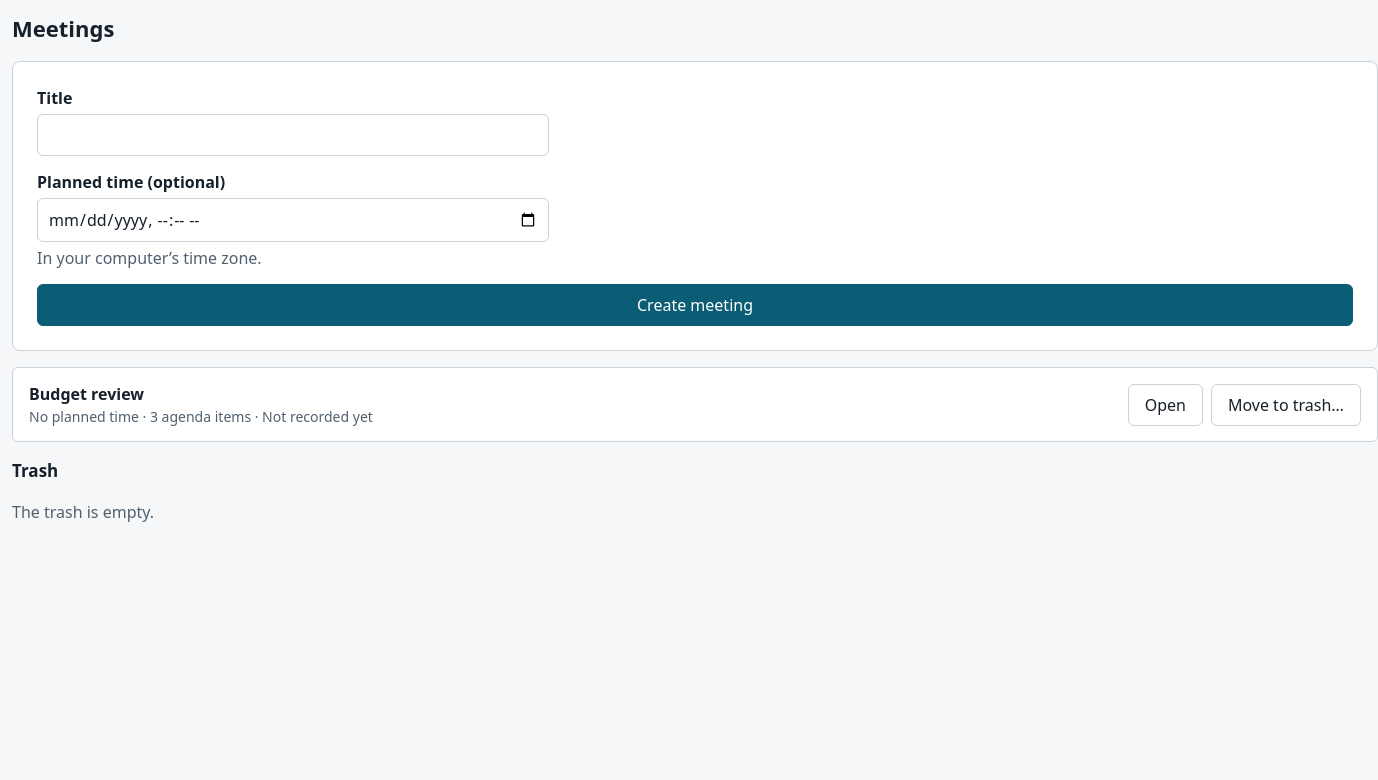
Scenario: moving a meeting to the trash asks first and says nothing is deleted
The image size is (1378, 780).
Click the button with aria-label "Move Budget review to the trash". click: {"x": 1286, "y": 404}
box: [1211,384,1361,426]
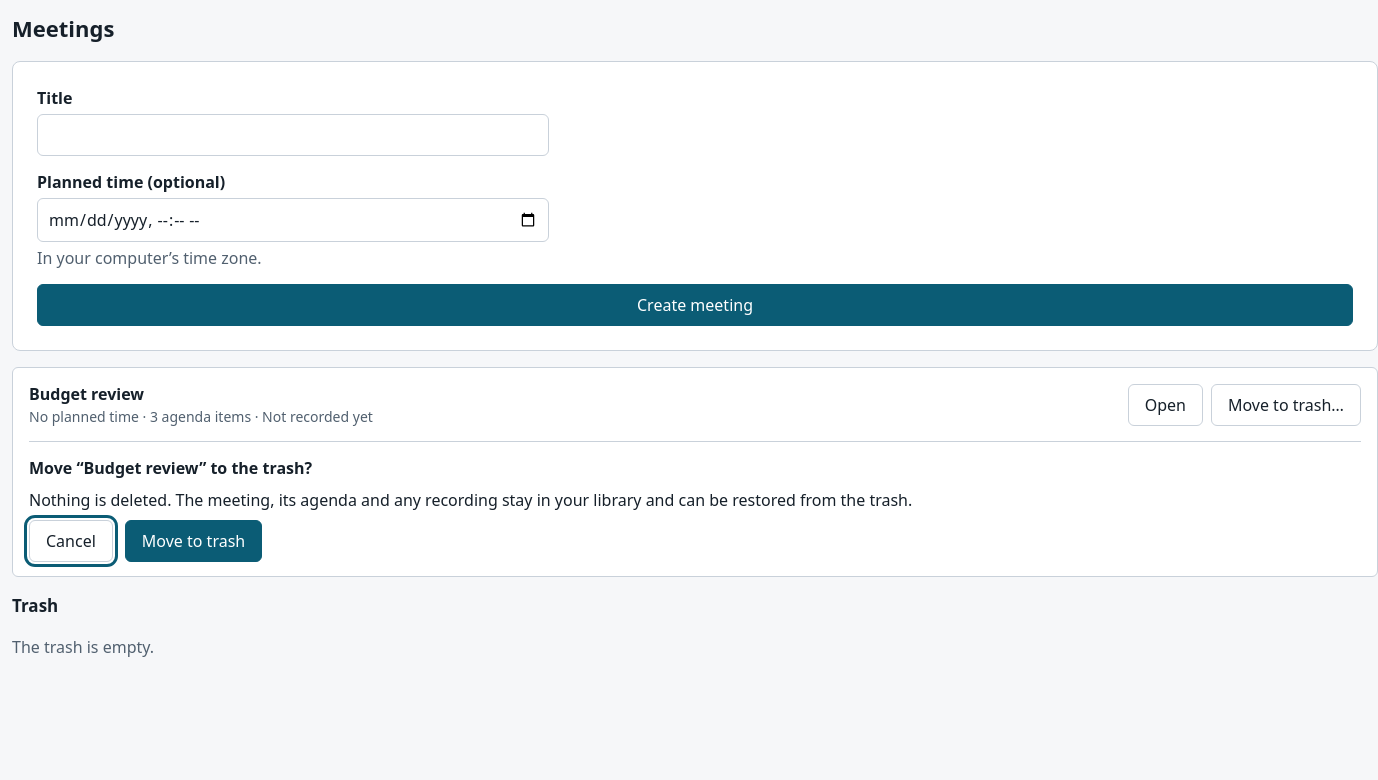
Expected: the element "Move “Budget review” to the trash?" shows "Nothing is deleted.", [29,489,912,511]
Click the button "Move to trash". click: {"x": 194, "y": 541}
box: [125,520,262,562]
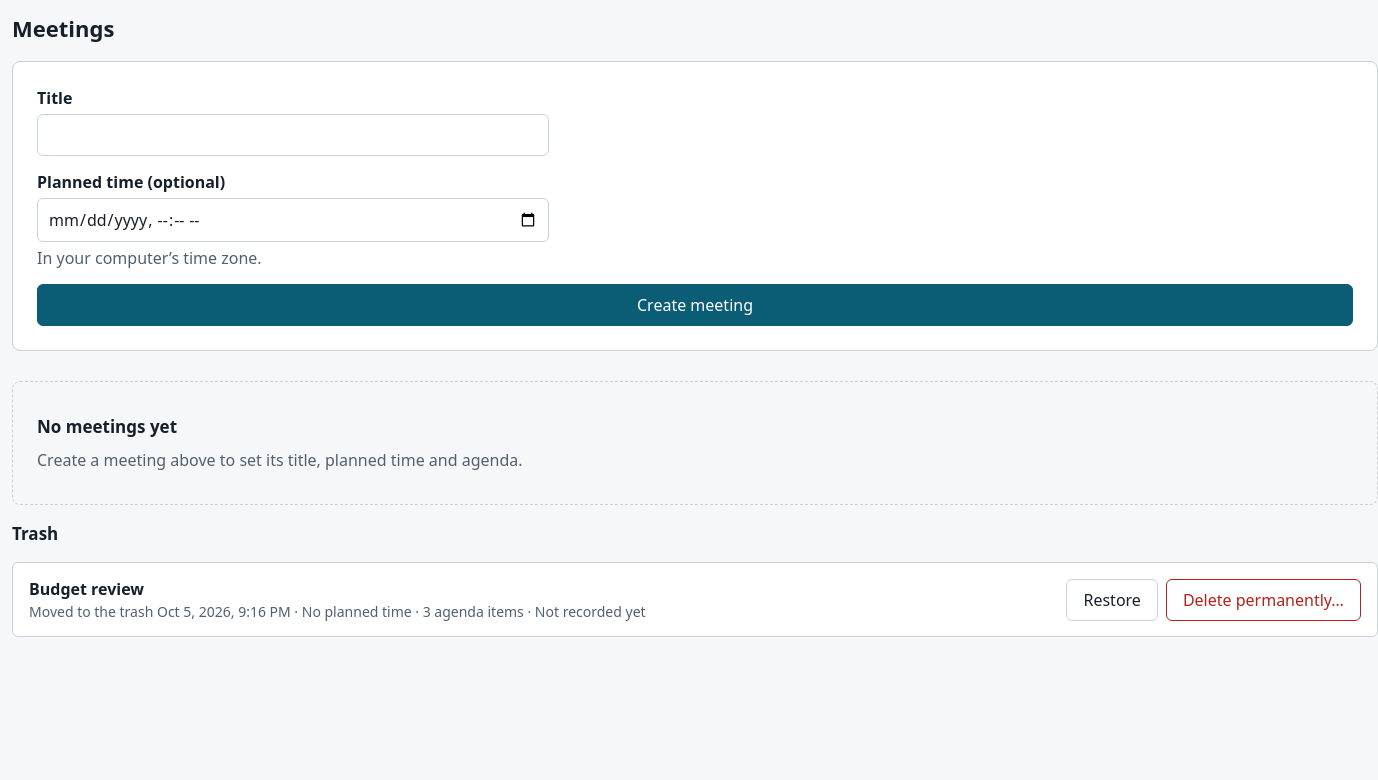
Expected: the list named "Meetings in the trash" shows "Budget review", [29,578,144,600]
Expected: the text "No meetings yet" is shown, [37,415,177,438]
